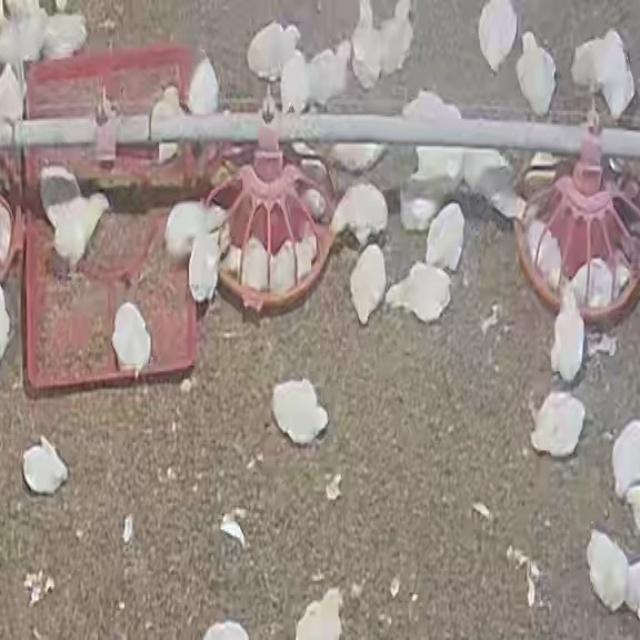chicken: (569, 29, 633, 120), (48, 194, 107, 272), (386, 262, 453, 324), (272, 378, 330, 448), (329, 181, 389, 248), (584, 525, 629, 612), (464, 153, 522, 220), (530, 389, 587, 457), (163, 199, 226, 260), (244, 19, 302, 85), (515, 31, 556, 118), (550, 284, 586, 382), (19, 434, 72, 496), (349, 243, 387, 328), (350, 0, 386, 89), (148, 85, 186, 168), (110, 302, 153, 375), (306, 44, 352, 111), (377, 0, 416, 78), (477, 0, 518, 73), (568, 257, 624, 309), (188, 225, 224, 304), (424, 201, 465, 270), (294, 589, 343, 640), (611, 419, 640, 504), (39, 164, 78, 227), (527, 220, 563, 286), (279, 50, 311, 117), (187, 53, 220, 117), (45, 15, 91, 60), (403, 90, 463, 124), (20, 0, 50, 65), (326, 143, 386, 175), (409, 146, 467, 178), (398, 190, 441, 233), (266, 235, 294, 296), (241, 235, 269, 290), (0, 66, 24, 130), (0, 0, 22, 63), (294, 234, 316, 283), (202, 620, 252, 640)
